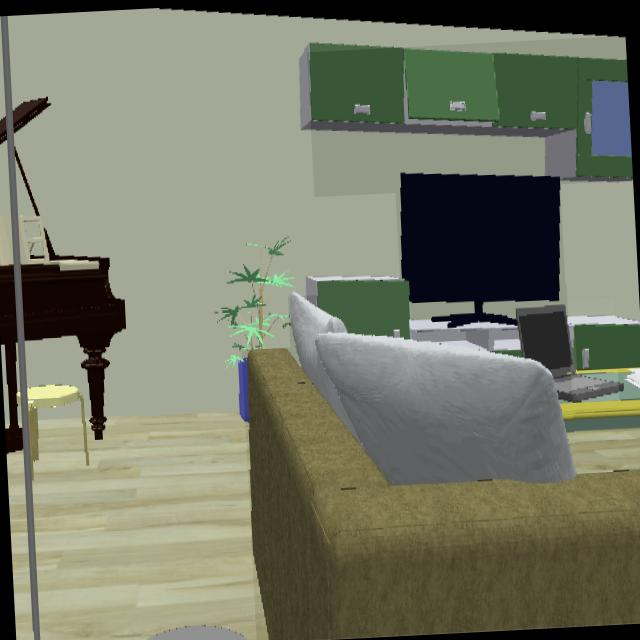cabinet: (309, 48, 633, 181), (317, 281, 412, 339), (575, 325, 640, 371)
laptop: (515, 303, 619, 402)
monitor: (400, 172, 562, 303)
pillow: (289, 296, 577, 488)
sofa: (245, 350, 640, 640)
